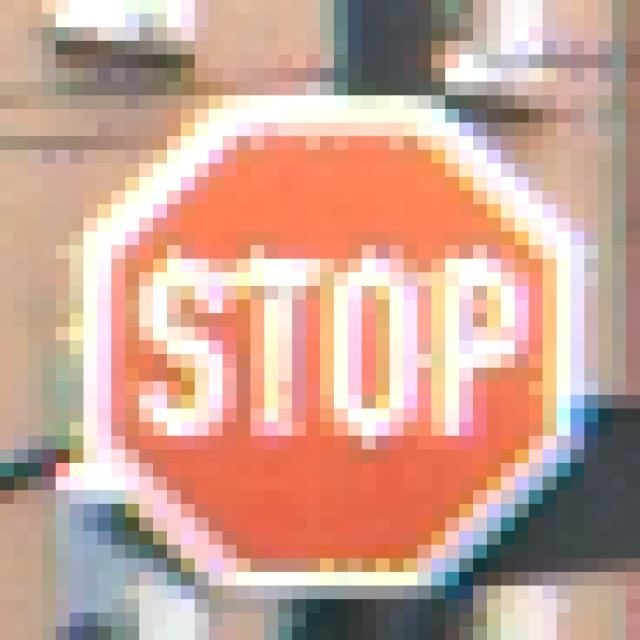STOP: (71, 83, 572, 573)
